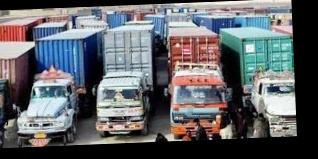truck: (14, 26, 109, 146), (220, 25, 297, 137), (166, 25, 233, 140), (93, 24, 158, 136)
